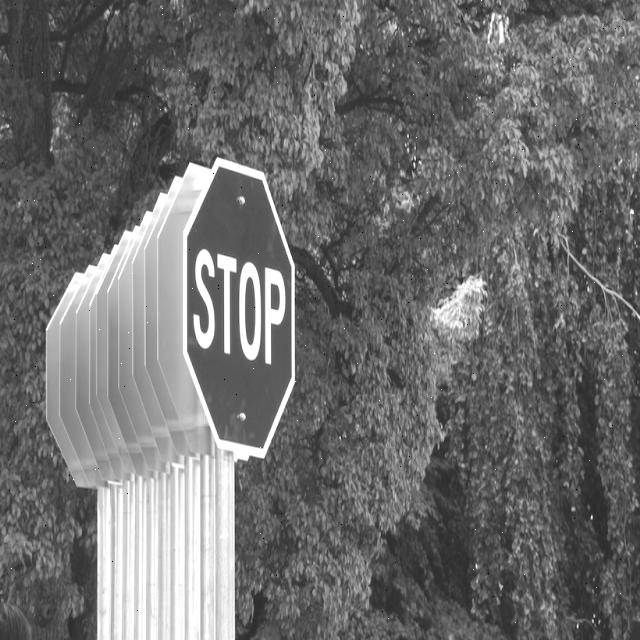stop: (182, 155, 296, 459)
